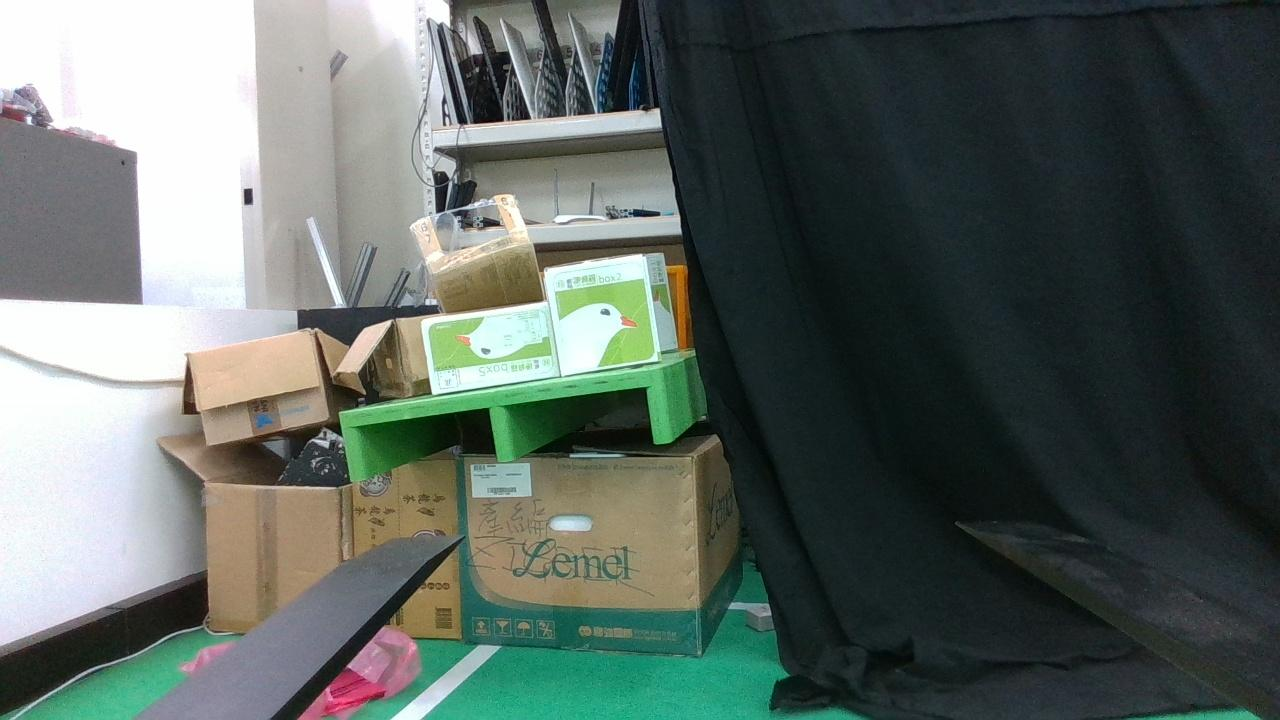Pallet: (337, 367, 672, 481)
